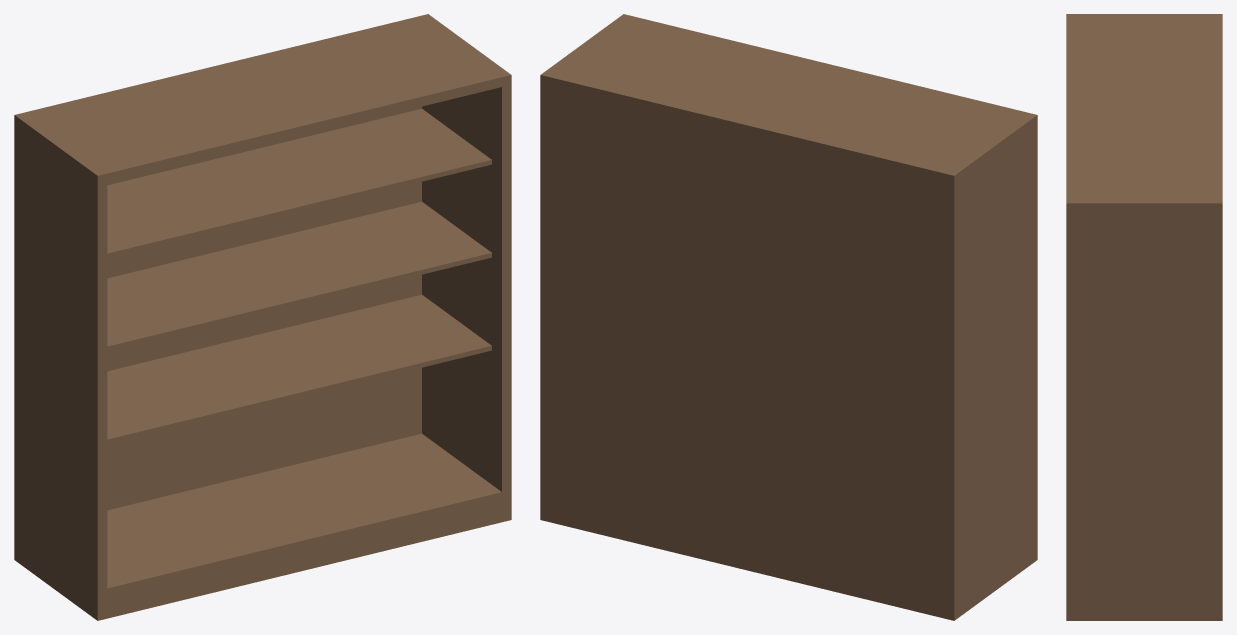
File: Armario Abierto 2.fbx
3 renders of one model, left to right at view 1: azimuth 30°, elevation 25°; view 2: azimuth 150°, elevation 25°; view 3: azimuth 270°, elevation 25°, orthographic. The views are drawn at different scales.
Parts seen in each view (by area): view 1: Armario_Abierto_2; view 2: Armario_Abierto_2; view 3: Armario_Abierto_2.
Boxes of the visible parts, left/top/right/bottom form: Armario_Abierto_2: left=14, top=14, right=511, bottom=620; Armario_Abierto_2: left=540, top=14, right=1037, bottom=620; Armario_Abierto_2: left=1066, top=14, right=1222, bottom=620.
Bounding box in the file's own units: 1.75 × 1.8 × 0.6103.
